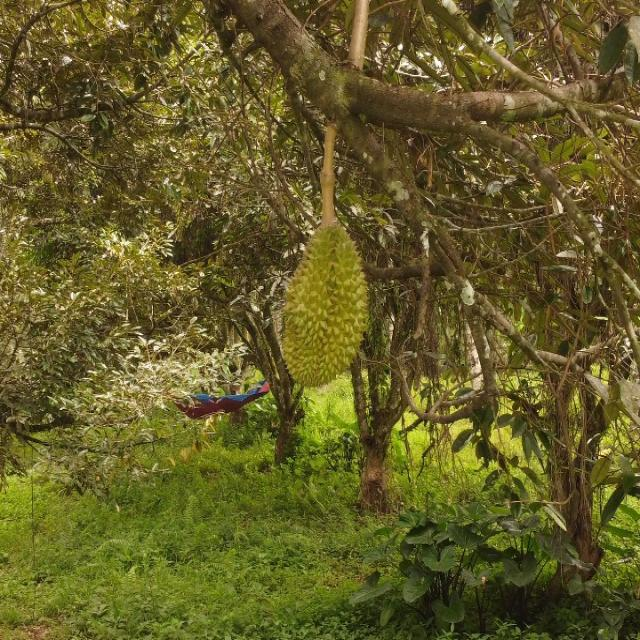immature: (281, 221, 368, 390)
